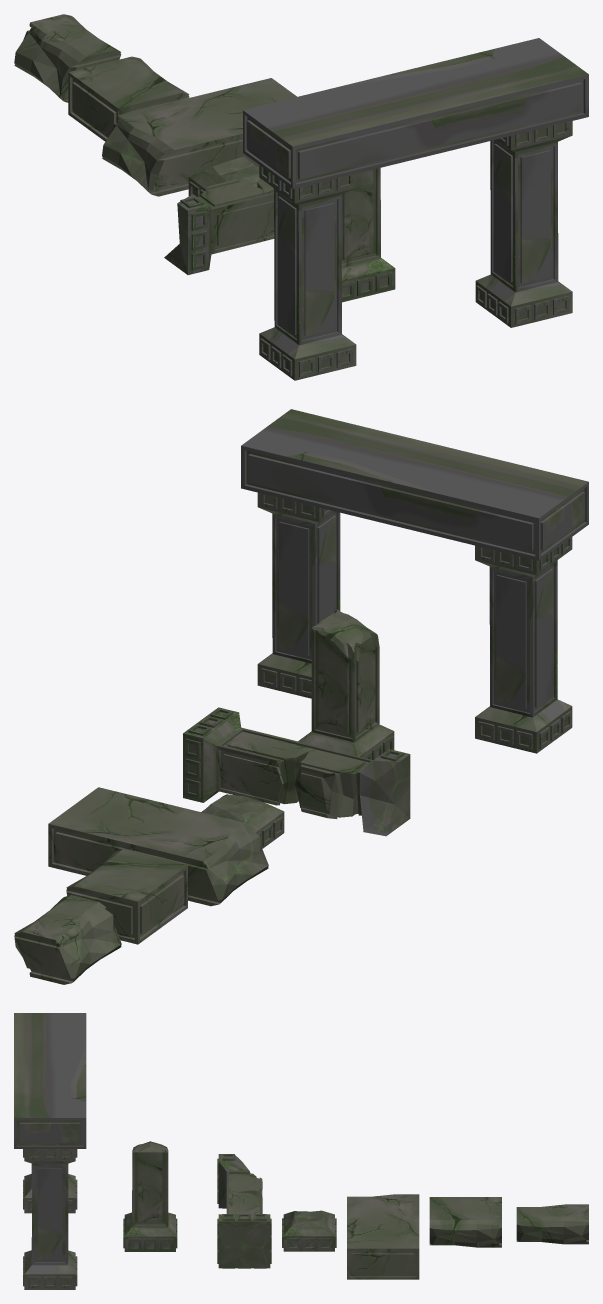
Rendered from ruins.fbx.
3 renders of one model, top to bottom at view 1: azimuth 30°, elevation 25°; view 2: azimuth 150°, elevation 25°; view 3: azimuth 270°, elevation 25°, orthographic. The views are drawn at different scales.
Parts seen in each view (by area): view 1: pillar, pillar.001, pillar.004, pillar.003, pillar.005, pillar.007, pillar.006; view 2: pillar, pillar.004, pillar.001, pillar.005, pillar.003, pillar.007, pillar.006; view 3: pillar, pillar.001, pillar.004, pillar.005, pillar.003, pillar.007, pillar.006.
Part boxes in pixels (x1=…): pillar: x1=243, y1=38, x2=588, y2=380; pillar.001: x1=102, y1=78, x2=296, y2=196; pillar.004: x1=164, y1=178, x2=274, y2=274; pillar.003: x1=68, y1=56, x2=189, y2=141; pillar.005: x1=341, y1=168, x2=395, y2=302; pillar.007: x1=14, y1=14, x2=121, y2=102; pillar.006: x1=188, y1=156, x2=259, y2=196; pillar: x1=241, y1=409, x2=588, y2=753; pillar.004: x1=183, y1=707, x2=410, y2=836; pillar.001: x1=48, y1=787, x2=268, y2=906; pillar.005: x1=298, y1=609, x2=394, y2=759; pillar.003: x1=66, y1=849, x2=187, y2=944; pillar.007: x1=14, y1=895, x2=121, y2=984; pillar.006: x1=201, y1=794, x2=284, y2=848; pillar: x1=14, y1=1013, x2=86, y2=1289; pillar.001: x1=347, y1=1194, x2=419, y2=1279; pillar.004: x1=217, y1=1154, x2=271, y2=1268; pillar.005: x1=123, y1=1141, x2=177, y2=1251; pillar.003: x1=429, y1=1197, x2=501, y2=1247; pillar.007: x1=516, y1=1204, x2=588, y2=1244; pillar.006: x1=282, y1=1210, x2=336, y2=1251.
Size of the model in its own units: 274 by 215 by 635.
